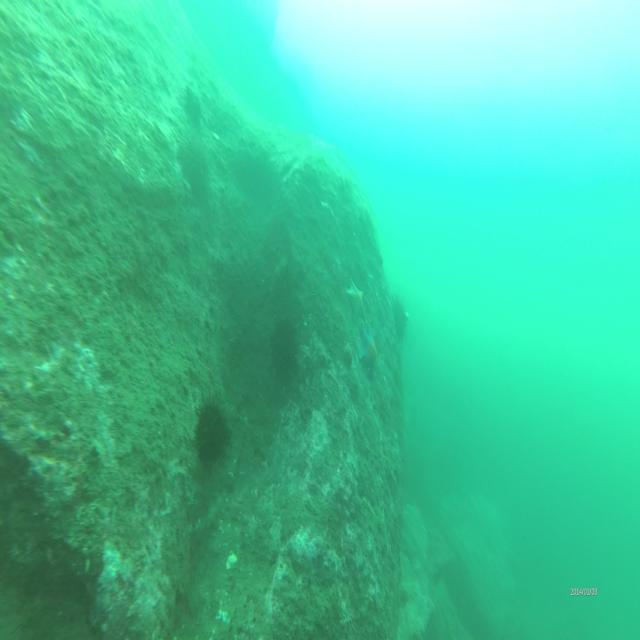echinus: (190, 388, 234, 472), (176, 129, 212, 198), (268, 313, 302, 379), (390, 289, 410, 340)
starfish: (357, 322, 378, 374), (344, 274, 366, 317), (182, 82, 204, 122)
